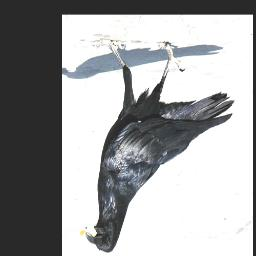Crow: (81, 37, 235, 253)
